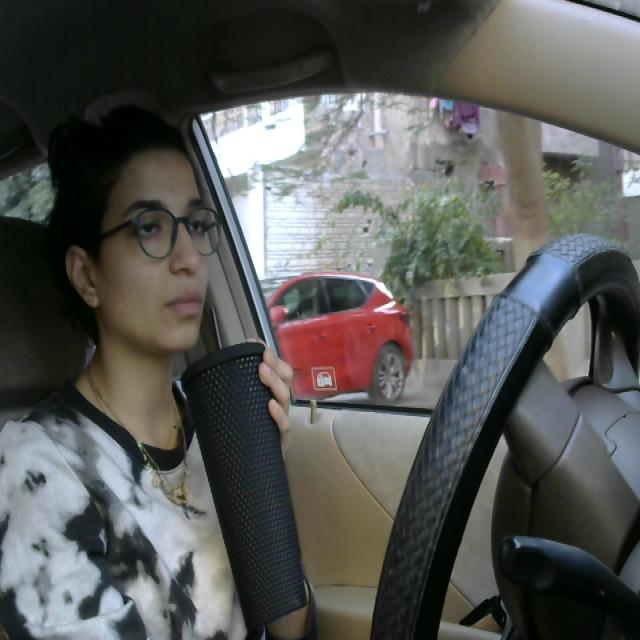drinking: (177, 321, 326, 629)
